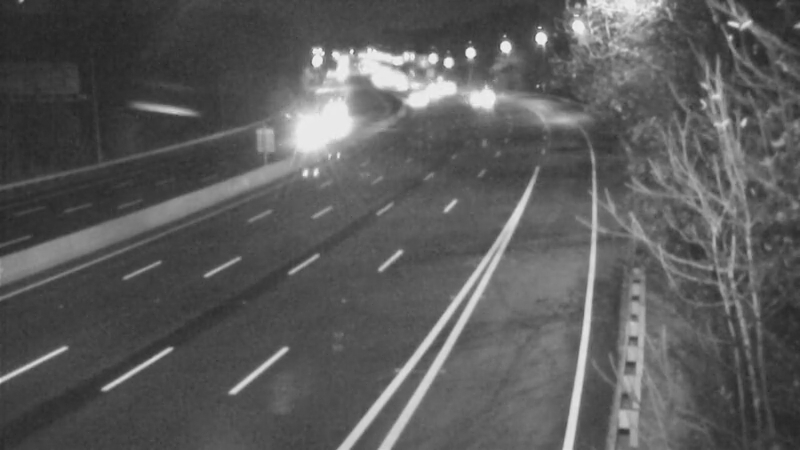vehicle: (391, 77, 441, 127), (444, 71, 494, 121), (286, 114, 336, 164), (313, 88, 363, 138)
